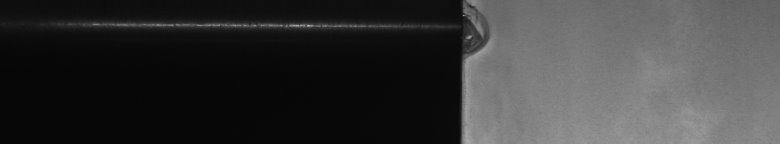hb: (472, 4, 496, 60)
